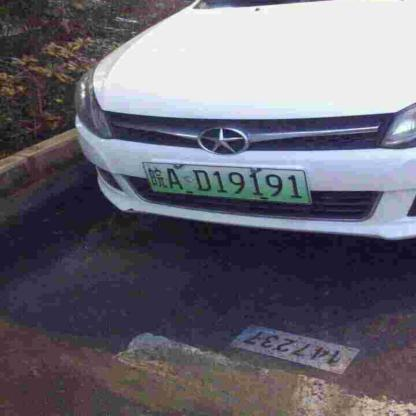lp: (143, 162, 309, 202)
